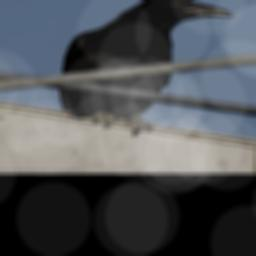Crow: (55, 0, 235, 135)
